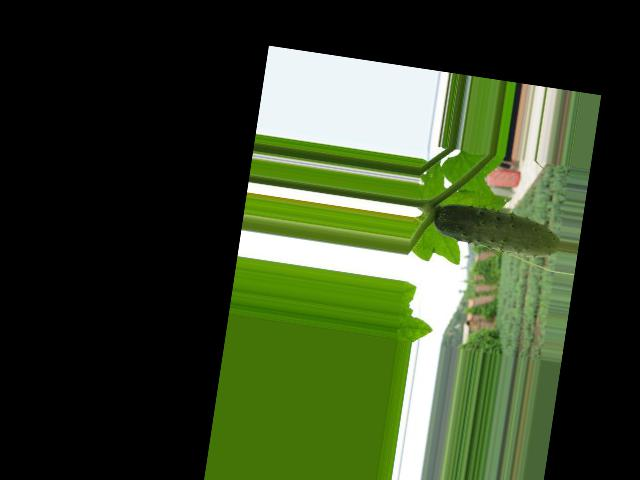cucumber: (431, 201, 563, 260)
